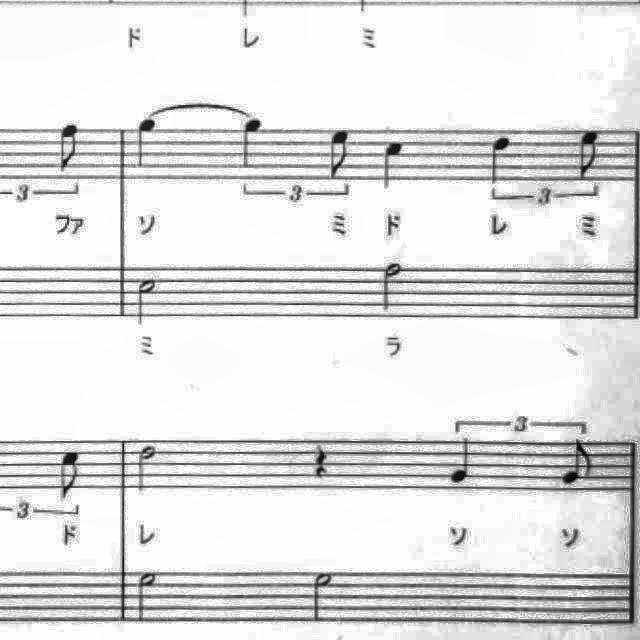Eighth-note: (555, 434, 599, 491), (571, 124, 609, 186), (322, 122, 360, 182), (54, 446, 90, 506), (52, 116, 88, 176)
Half-note: (130, 567, 166, 629), (308, 564, 344, 626), (128, 270, 164, 330), (375, 256, 409, 316), (132, 439, 164, 497)
Quarter-note: (374, 134, 412, 198), (482, 128, 518, 190), (234, 114, 270, 174), (128, 114, 164, 174), (443, 433, 481, 489)
Quarter-rest: (309, 438, 339, 486)
